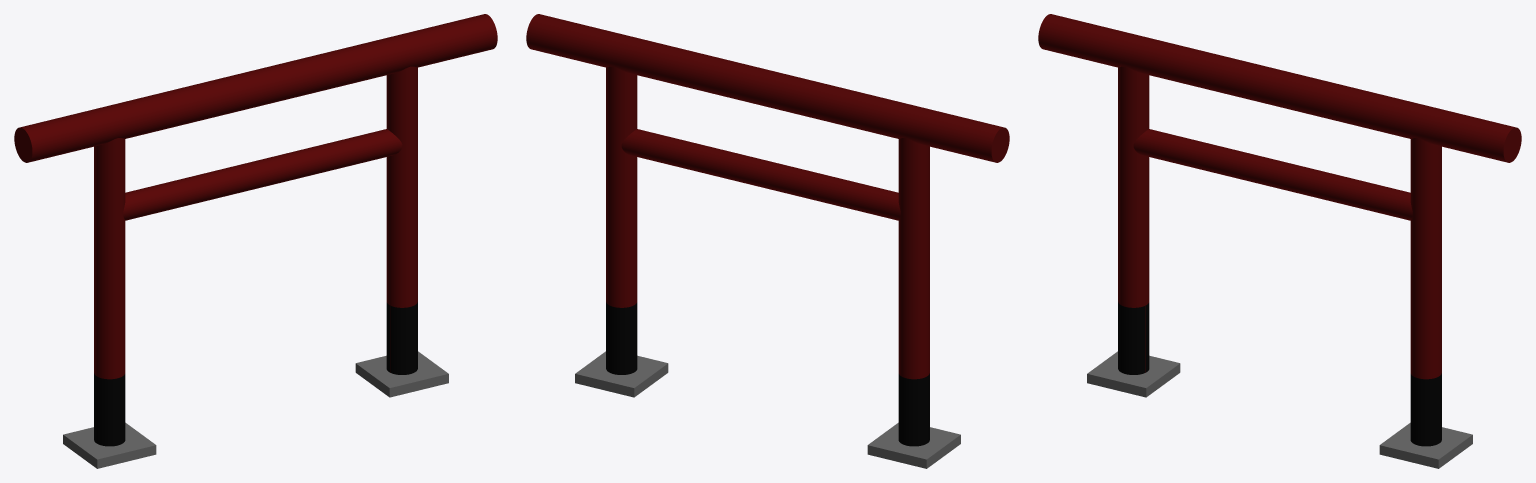
The model's file is Shinmei_Flat_Red.obj.
The picture shows the model from 3 angles, left to right: view 1: azimuth 30°, elevation 25°; view 2: azimuth 150°, elevation 25°; view 3: azimuth 330°, elevation 25°; orthographic projection.
Visible parts, largest first — view 1: Cube_Cube.001; view 2: Cube_Cube.001; view 3: Cube_Cube.001.
Part boxes in pixels (<box>): Cube_Cube.001: <box>14,14,497,468</box>; Cube_Cube.001: <box>526,14,1009,468</box>; Cube_Cube.001: <box>1038,14,1521,468</box>.
Size of the model in its own units: 4.86 by 3.41 by 0.6179.
